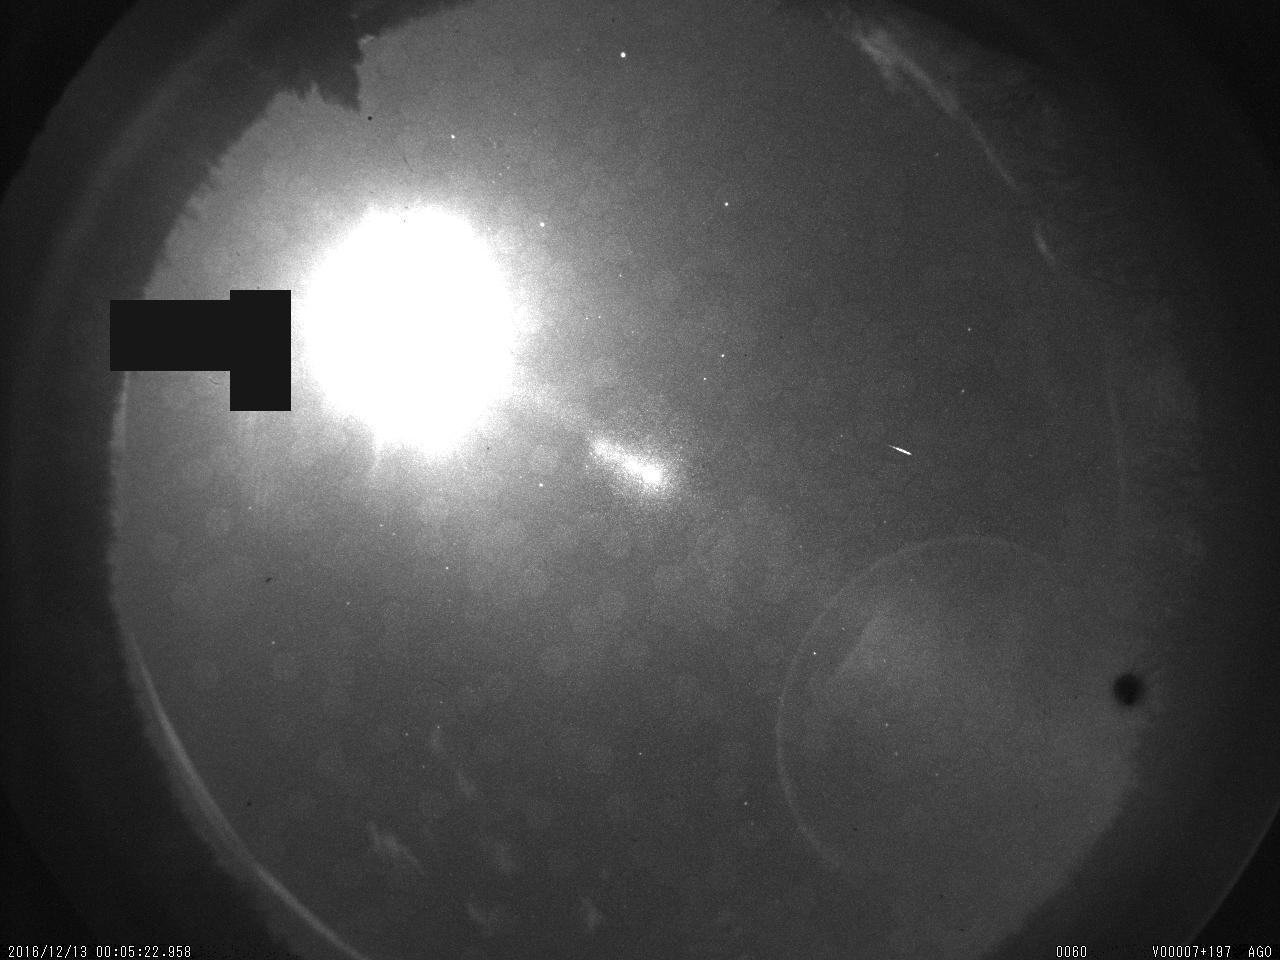meteor: (882, 434, 920, 467)
